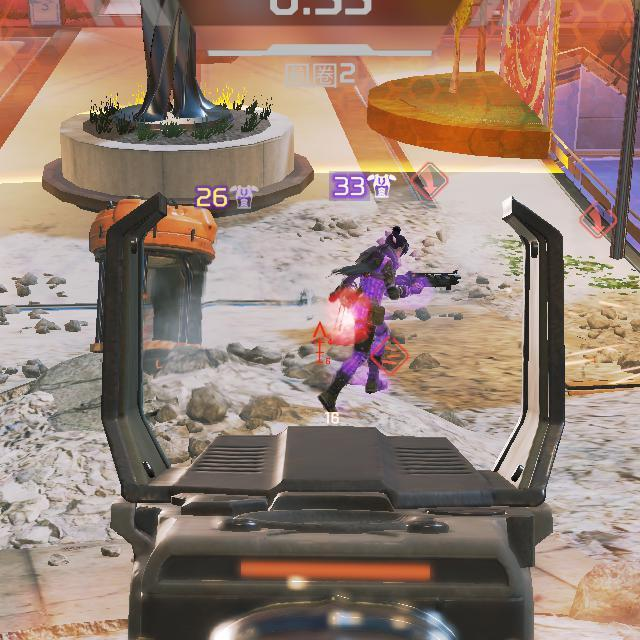avatar: (317, 225, 430, 419)
object: (321, 286, 372, 346)
